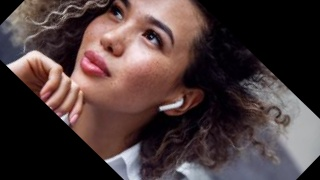earphone: (155, 77, 207, 129)
